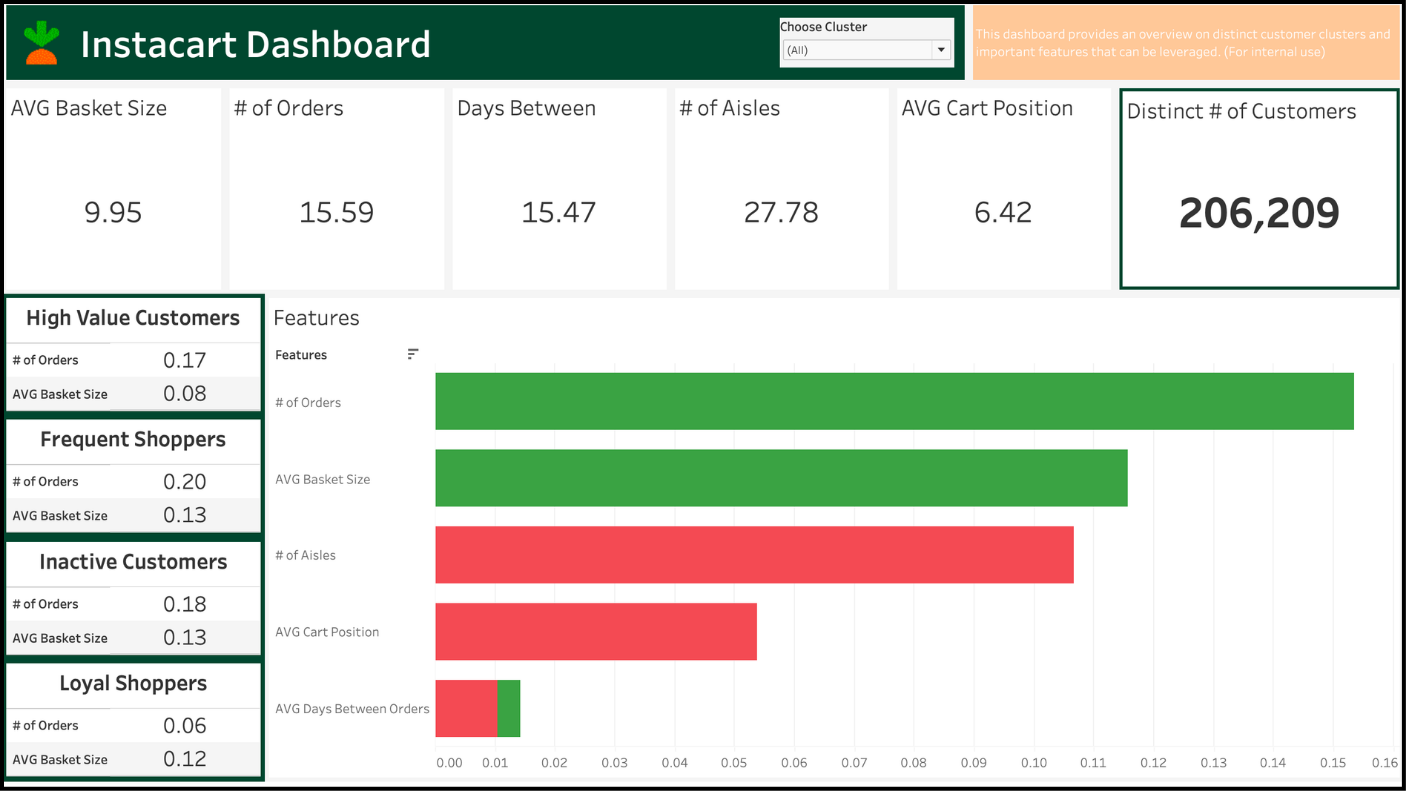

Layout of this report page (visuals, bound fields, positions):
{"tool":"tableau","page":{"name":"Dashboard 1","canvas":[1366,768],"ordinal":0},"visuals":[{"type":"text","box":[8,8,931,80]},{"type":"text","box":[939,8,419,80]},{"type":"image","param":"Image/instacart_logo-freelogovectors.net_.png","box":[15,19,62,59]},{"type":"filter","title":"Distinct Cust","param":"[federated.1nfekk300f3zix15rmvr30qhk4rx].[none:Calculation_4724557546116562948:n","box":[757,24,168,48]},{"type":"worksheet","title":"AVG Basket Size","mark":"Automatic","box":[8,88,215,202]},{"type":"worksheet","title":"# of Orders","mark":"Automatic","box":[223,88,215,202]},{"type":"worksheet","title":"Days Between","mark":"Automatic","box":[438,88,214,202]},{"type":"worksheet","title":"# of Aisles","mark":"Automatic","box":[652,88,214,202]},{"type":"worksheet","title":"AVG Cart Position","mark":"Automatic","box":[866,88,214,202]},{"type":"worksheet","title":"Distinct Cust","mark":"Automatic","box":[1080,88,278,202]},{"type":"worksheet","title":"Top Drivers","mark":"Automatic","rows":["Calculation_4724557546110316546"],"box":[8,290,253,117.5]},{"type":"worksheet","title":"Features","mark":"Automatic","rows":["Calculation_4724557546110316546"],"cols":["Calculation_4724557546108727296"],"box":[261,290,1097,470]},{"type":"worksheet","title":"Top Drivers (2)","mark":"Automatic","rows":["Calculation_4724557546110316546"],"box":[8,407.5,253,117.5]},{"type":"worksheet","title":"Top Drivers (3)","mark":"Automatic","rows":["Calculation_4724557546110316546"],"box":[8,525,253,117.5]},{"type":"worksheet","title":"Top Drivers (4)","mark":"Automatic","rows":["Calculation_4724557546110316546"],"box":[8,642.5,253,117.5]}]}

Visuals, with their boxes in screenshot pixels (x1, y1, x2, y2), scaled from the page's 1366x768 canvas onto the 1406x791 screenshot:
text: 8,8,966,91
text: 966,8,1398,91
image: 15,20,79,80
"Distinct Cust" filter: 779,25,952,74
"AVG Basket Size" worksheet: 8,91,230,299
"# of Orders" worksheet: 230,91,451,299
"Days Between" worksheet: 451,91,671,299
"# of Aisles" worksheet: 671,91,891,299
"AVG Cart Position" worksheet: 891,91,1112,299
"Distinct Cust" worksheet: 1112,91,1398,299
"Top Drivers" worksheet: 8,299,269,420
"Features" worksheet: 269,299,1398,783
"Top Drivers (2)" worksheet: 8,420,269,541
"Top Drivers (3)" worksheet: 8,541,269,662
"Top Drivers (4)" worksheet: 8,662,269,783
